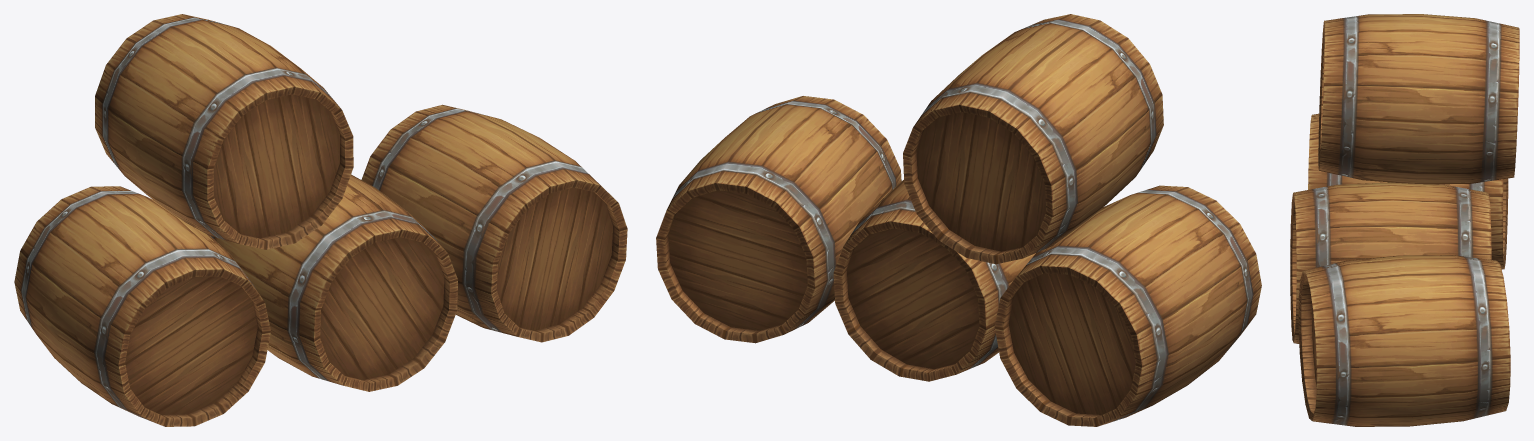
File: Barrels_Preset_03.FBX
The picture shows the model from 3 angles, left to right: view 1: azimuth 30°, elevation 25°; view 2: azimuth 150°, elevation 25°; view 3: azimuth 270°, elevation 25°; orthographic projection. The views are drawn at different scales.
Visible parts, largest first — view 1: Barrels_Preset_03; view 2: Barrels_Preset_03; view 3: Barrels_Preset_03.
Boxes of the visible parts, box(x1,y1,x2,y2) form: Barrels_Preset_03: box(14, 14, 627, 426); Barrels_Preset_03: box(656, 14, 1261, 426); Barrels_Preset_03: box(1290, 14, 1519, 426).
Size of the model in its own units: 260 by 113 by 156.
